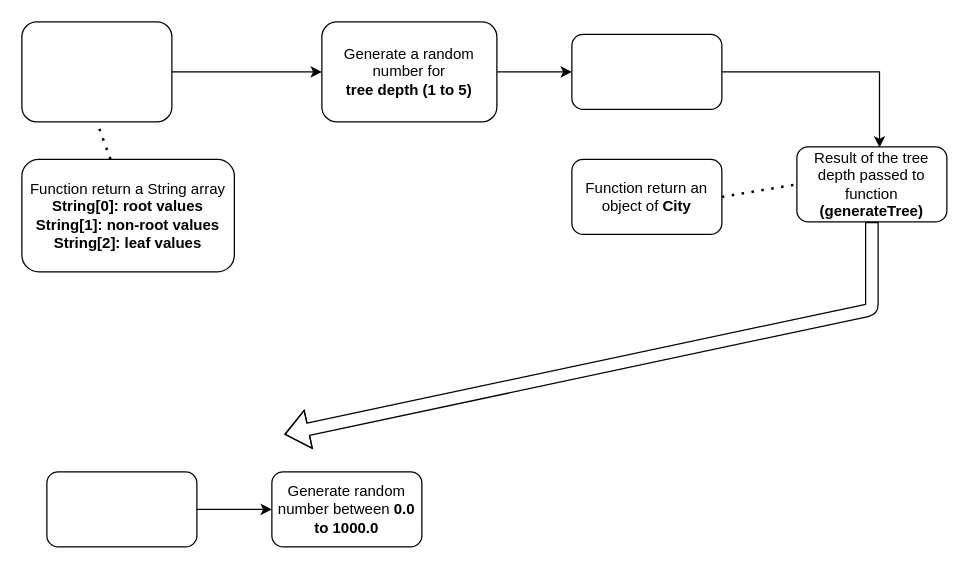
Image size: 969x569. Some labels were removed from this diagram. The box of each missing label's shape, as (x1, y1, x2, y2) in pixels:
In generateTree: (46, 471, 197, 547)
Output the result of the tree depth generated: (571, 33, 722, 109)
Read from a file for a sets of root value, non-root value, leaf value: (21, 21, 172, 122)
